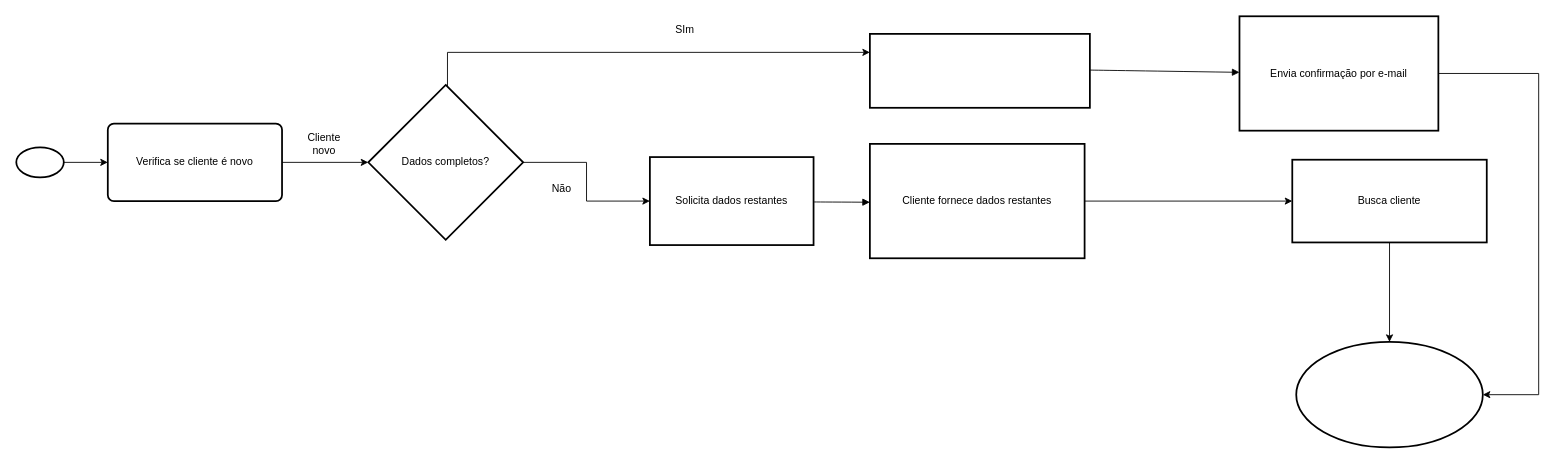
Some shapes in this 1561 by 463 pixel diagram are drawn without their labels. Each missing label, with the centre of its shape:
"Cadastra cliente" belongs at (x=979, y=70).
"Fim" belongs at (x=1389, y=394).
"Início" belongs at (x=39, y=162).
